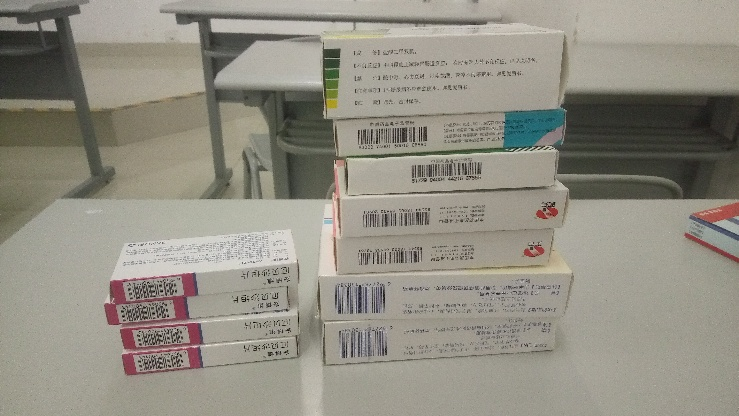pillbox: (322, 27, 564, 114), (317, 315, 570, 368), (317, 269, 574, 316), (111, 235, 300, 295), (333, 231, 560, 278), (337, 190, 565, 234), (331, 110, 572, 151), (343, 149, 558, 190), (101, 290, 289, 322), (118, 318, 303, 349), (124, 341, 300, 373)
